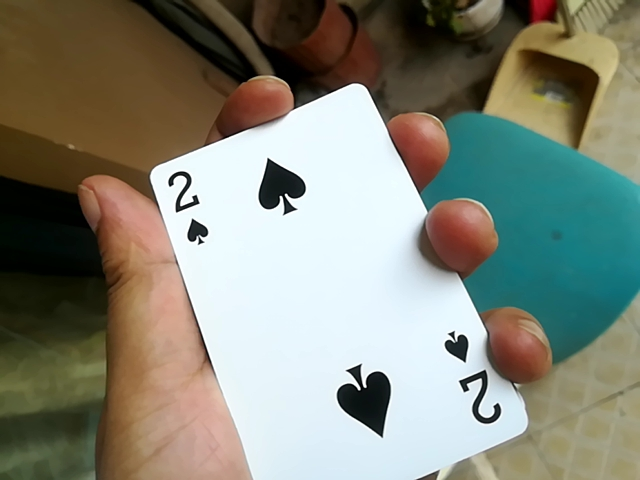ht 2: (127, 87, 509, 479)
